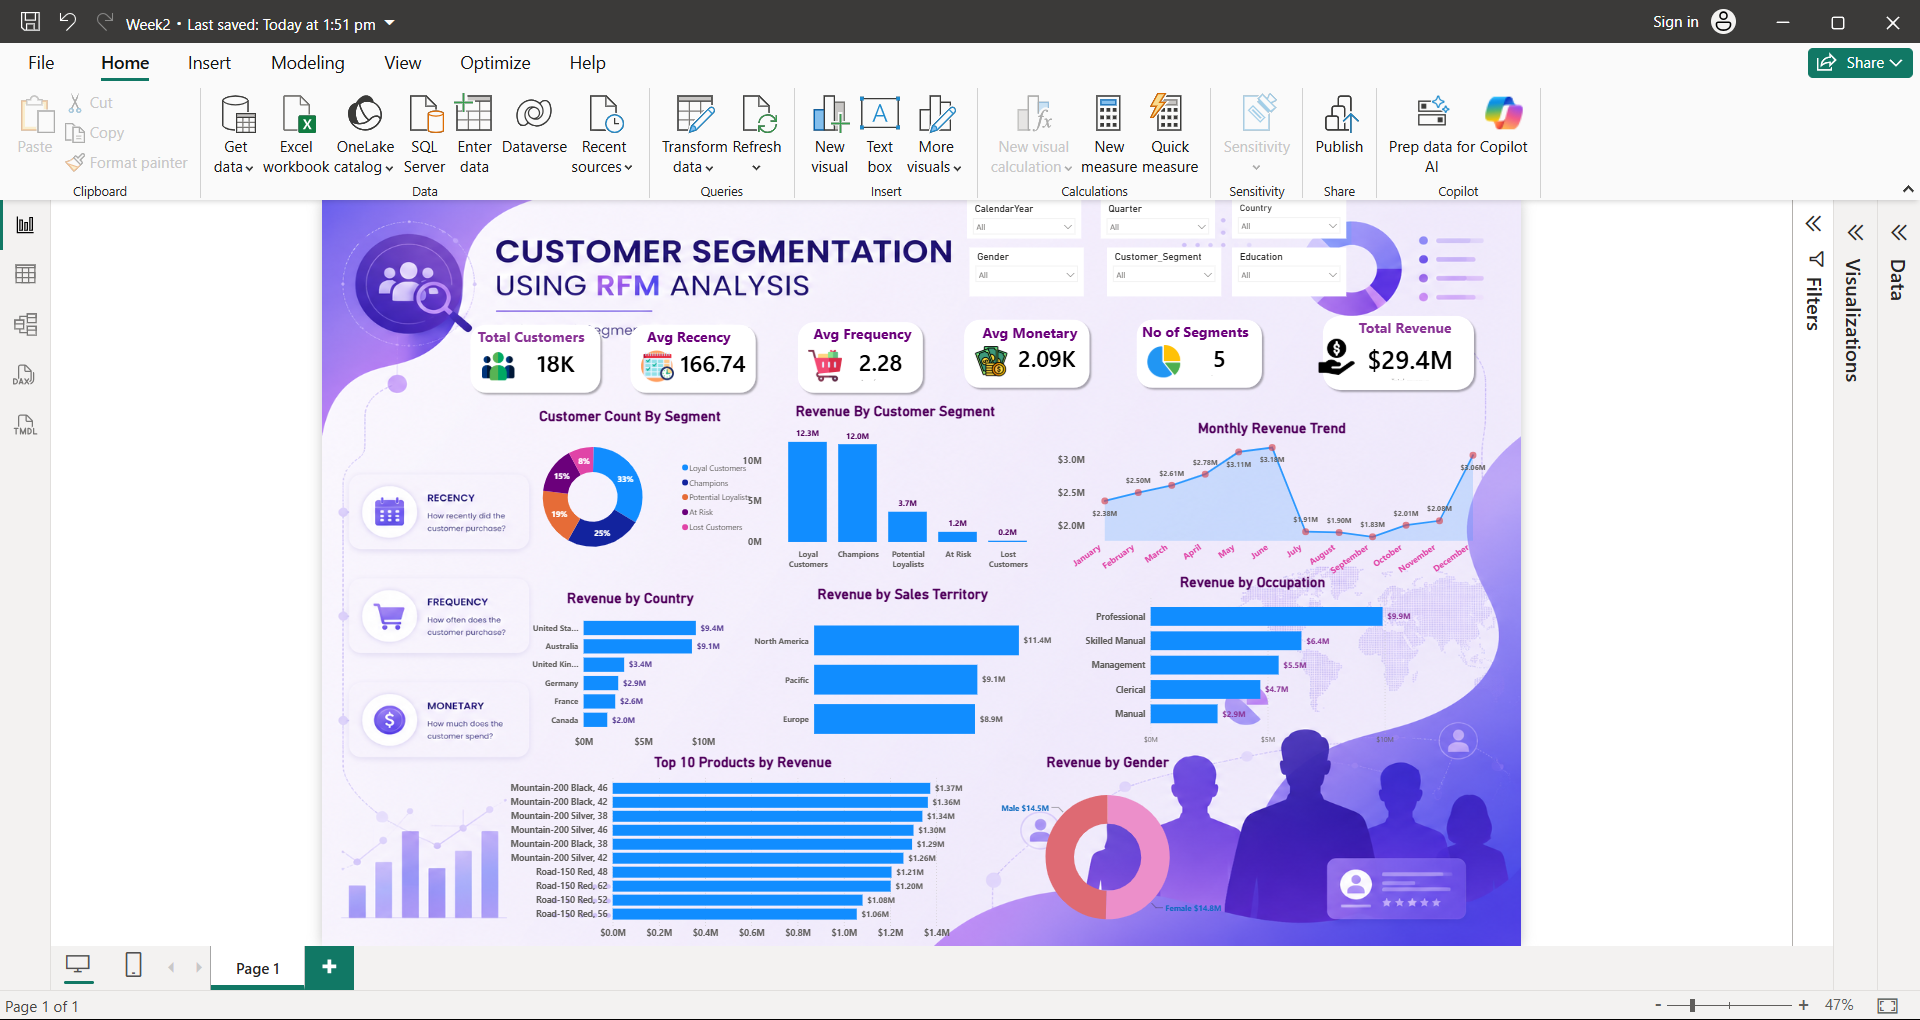

The dashboard page shown, as its layout file describes it:
{"tool":"powerbi","page":{"name":"Page 1","canvas":[2038,1269],"ordinal":0},"visuals":[{"type":"shape","box":[1695.2,189.9,272.7,141.6],"z":0,"group":"g2"},{"type":"shape","box":[1084.7,196.4,228.7,131.6],"z":0,"group":"g5"},{"type":"shape","box":[1377.1,196.4,228.7,131.6],"z":0,"group":"g6"},{"type":"shape","box":[801,200.8,228.2,136],"z":0,"group":"g4"},{"type":"shape","box":[244.4,205.2,236.8,131.6],"z":0,"group":"g3"},{"type":"group","id":"g1","title":"Group 1","box":[517.2,205.2,240.1,130.9],"z":0},{"type":"shape","box":[517.2,205.2,228.7,131.6],"z":0,"group":"g1"},{"type":"group","id":"g2","title":"Group 1","box":[1691.4,189.9,294.6,141.9],"z":1000},{"type":"image","box":[1691.4,236.5,71.5,61.7],"z":1000,"group":"g2"},{"type":"image","box":[1105.1,247.8,65.4,55.5],"z":1000,"group":"g5"},{"type":"image","box":[1397.5,247.8,65.4,55.5],"z":1000,"group":"g6"},{"type":"image","box":[822.1,253.8,65.4,57.4],"z":1000,"group":"g4"},{"type":"image","box":[265.5,256.6,67.7,55.5],"z":1000,"group":"g3"},{"type":"image","box":[537.6,256.6,65.4,55.5],"z":1000,"group":"g1"},{"type":"group","id":"g3","title":"Group 1","box":[244.4,205.2,237.9,130.9],"z":2000},{"type":"cardVisual","fields":{"Data":["Customer_Segmentation.Total_revenue"]},"box":[1716.2,231.8,270.5,92.5],"z":2000,"group":"g2"},{"type":"cardVisual","fields":{"Data":["Customer_Segmentation.Avg_monetary"]},"box":[1141.7,235.7,183,82.2],"z":2000,"group":"g5"},{"type":"cardVisual","fields":{"Data":["Customer_Segmentation.no_of_segments"]},"box":[1434.1,235.7,183,82.2],"z":2000,"group":"g6"},{"type":"cardVisual","fields":{"Data":["Customer_Segmentation.Avg_frequency"]},"box":[858.6,241.3,183,85],"z":2000,"group":"g4"},{"type":"cardVisual","fields":{"Data":["Customer_Segmentation.Avg_recency"]},"box":[574.2,244.5,183,82.2],"z":2000,"group":"g1"},{"type":"cardVisual","fields":{"Data":["Customer_Segmentation.Total_Customers"]},"box":[333.2,250.4,129,69.9],"z":2000,"group":"g3"},{"type":"textbox","box":[1699.7,196.7,227.6,50.2],"z":3000,"group":"g2"},{"type":"group","id":"g4","title":"Group 1","box":[801,200.8,240.1,135.3],"z":3000},{"type":"textbox","box":[1381.2,202.6,206.3,45.2],"z":3000,"group":"g6"},{"type":"textbox","box":[1102.3,204.8,205.6,45.2],"z":3000,"group":"g5"},{"type":"textbox","box":[816.3,207.5,205.6,46.7],"z":3000,"group":"g4"},{"type":"textbox","box":[248.6,211.4,213.5,45.2],"z":3000,"group":"g3"},{"type":"textbox","box":[521.3,211.4,206.3,45.2],"z":3000,"group":"g1"},{"type":"group","id":"g5","title":"Group 1","box":[1084.7,196.4,240.1,130.9],"z":4000},{"type":"group","id":"g6","title":"Group 1","box":[1377.1,196.4,240.1,130.9],"z":5000},{"type":"donutChart","title":"Customer Count By Segment","fields":{"Category":["Customer_Segmentation.Customer_Segment"],"Y":["CountNonNull(Customer_Segmentation.CustomerKey)"]},"box":[289.4,353.7,469.4,272.2],"z":6000},{"type":"clusteredColumnChart","title":"Revenue By Customer Segment","fields":{"Category":["Customer_Segmentation.Customer_Segment"],"Y":["Sum(Customer_Segmentation.SalesAmount)"]},"box":[709.3,344.8,530.3,292.5],"z":7000},{"type":"areaChart","title":"Monthly Revenue Trend","fields":{"Category":["Customer_Segmentation.OrderDate.Variation.Date Hierarchy.Month"],"Y":["Customer_Segmentation.Total_revenue"]},"box":[1246.2,373.2,739.9,283.7],"z":8000},{"type":"clusteredBarChart","title":"Revenue by Country","fields":{"Category":["Customer_Segmentation.EnglishCountryRegionName"],"Y":["Customer_Segmentation.Total_revenue"]},"box":[340.5,663.5,368.8,279.4],"z":9000},{"type":"clusteredBarChart","title":"Revenue by Sales Territory","fields":{"Category":["Customer_Segmentation.SalesTerritoryGroup"],"Y":["Customer_Segmentation.Total_revenue"]},"box":[729,656.9,517.2,285.9],"z":10000},{"type":"clusteredBarChart","title":"Revenue by Occupation","fields":{"Category":["Customer_Segmentation.EnglishOccupation"],"Y":["Customer_Segmentation.Total_revenue"]},"box":[1292,635.1,580.5,301.2],"z":11000},{"type":"clusteredBarChart","title":"Top 10 Products by Revenue","fields":{"Category":["Customer_Segmentation.EnglishProductName"],"Y":["Customer_Segmentation.Total_revenue"]},"box":[314.3,942.8,803.2,325.2],"z":12000},{"type":"donutChart","title":"Revenue by Gender","fields":{"Category":["Customer_Segmentation.Gender"],"Y":["Customer_Segmentation.Total_revenue"]},"box":[1124,942.8,423.4,325.2],"z":13000},{"type":"slicer","fields":{"Values":["Customer_Segmentation.CalendarYear"]},"box":[1097.8,0,194.2,65.5],"z":14000},{"type":"slicer","fields":{"Values":["Customer_Segmentation.CalendarQuarter"]},"box":[1324.8,0,194.2,65.5],"z":15000},{"type":"slicer","fields":{"Values":["Customer_Segmentation.CalendarYear","Customer_Segmentation.EnglishCountryRegionName"]},"box":[1547.4,0,194.2,65.5],"z":16000},{"type":"slicer","fields":{"Values":["Customer_Segmentation.Gender"]},"box":[1102.2,80.8,194.2,82.9],"z":17000},{"type":"slicer","fields":{"Values":["Customer_Segmentation.Customer_Segment"]},"box":[1335.7,80.8,194.2,82.9],"z":18000},{"type":"slicer","fields":{"Values":["Customer_Segmentation.EnglishEducation"]},"box":[1547.4,80.8,194.2,82.9],"z":19000}]}

Visuals, with their boxes on the page's 2038x1269 design canvas (x1, y1, x2, y2). These are canvas units, not pixel positions in the 1920x1020 screenshot, which may show the page scaled, cropped or inside an application window:
shape: [1695, 190, 1968, 332]
shape: [1085, 196, 1313, 328]
shape: [1377, 196, 1606, 328]
shape: [801, 201, 1029, 337]
shape: [244, 205, 481, 337]
"Group 1" group: [517, 205, 757, 336]
shape: [517, 205, 746, 337]
"Group 1" group: [1691, 190, 1986, 332]
image: [1691, 236, 1763, 298]
image: [1105, 248, 1170, 303]
image: [1398, 248, 1463, 303]
image: [822, 254, 888, 311]
image: [266, 257, 333, 312]
image: [538, 257, 603, 312]
"Group 1" group: [244, 205, 482, 336]
cardVisual - Customer_Segmentation.Total_revenue: [1716, 232, 1987, 324]
cardVisual - Customer_Segmentation.Avg_monetary: [1142, 236, 1325, 318]
cardVisual - Customer_Segmentation.no_of_segments: [1434, 236, 1617, 318]
cardVisual - Customer_Segmentation.Avg_frequency: [859, 241, 1042, 326]
cardVisual - Customer_Segmentation.Avg_recency: [574, 244, 757, 327]
cardVisual - Customer_Segmentation.Total_Customers: [333, 250, 462, 320]
textbox: [1700, 197, 1927, 247]
"Group 1" group: [801, 201, 1041, 336]
textbox: [1381, 203, 1588, 248]
textbox: [1102, 205, 1308, 250]
textbox: [816, 208, 1022, 254]
textbox: [249, 211, 462, 257]
textbox: [521, 211, 728, 257]
"Group 1" group: [1085, 196, 1325, 327]
"Group 1" group: [1377, 196, 1617, 327]
"Customer Count By Segment" donutChart: [289, 354, 759, 626]
"Revenue By Customer Segment" clusteredColumnChart: [709, 345, 1240, 637]
"Monthly Revenue Trend" areaChart: [1246, 373, 1986, 657]
"Revenue by Country" clusteredBarChart: [340, 664, 709, 943]
"Revenue by Sales Territory" clusteredBarChart: [729, 657, 1246, 943]
"Revenue by Occupation" clusteredBarChart: [1292, 635, 1872, 936]
"Top 10 Products by Revenue" clusteredBarChart: [314, 943, 1118, 1268]
"Revenue by Gender" donutChart: [1124, 943, 1547, 1268]
slicer - Customer_Segmentation.CalendarYear: [1098, 0, 1292, 66]
slicer - Customer_Segmentation.CalendarQuarter: [1325, 0, 1519, 66]
slicer - Customer_Segmentation.CalendarYear x Customer_Segmentation.EnglishCountryRegionName: [1547, 0, 1742, 66]
slicer - Customer_Segmentation.Gender: [1102, 81, 1296, 164]
slicer - Customer_Segmentation.Customer_Segment: [1336, 81, 1530, 164]
slicer - Customer_Segmentation.EnglishEducation: [1547, 81, 1742, 164]
